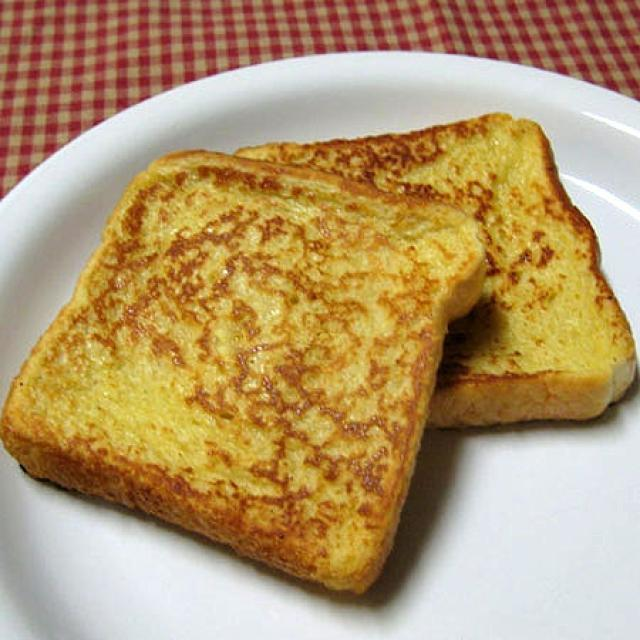面包点心: (17, 12, 617, 602)
